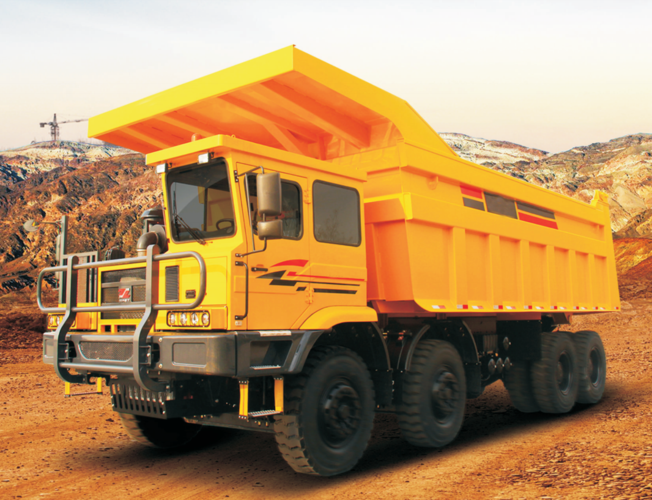卡车: (22, 78, 626, 494)
